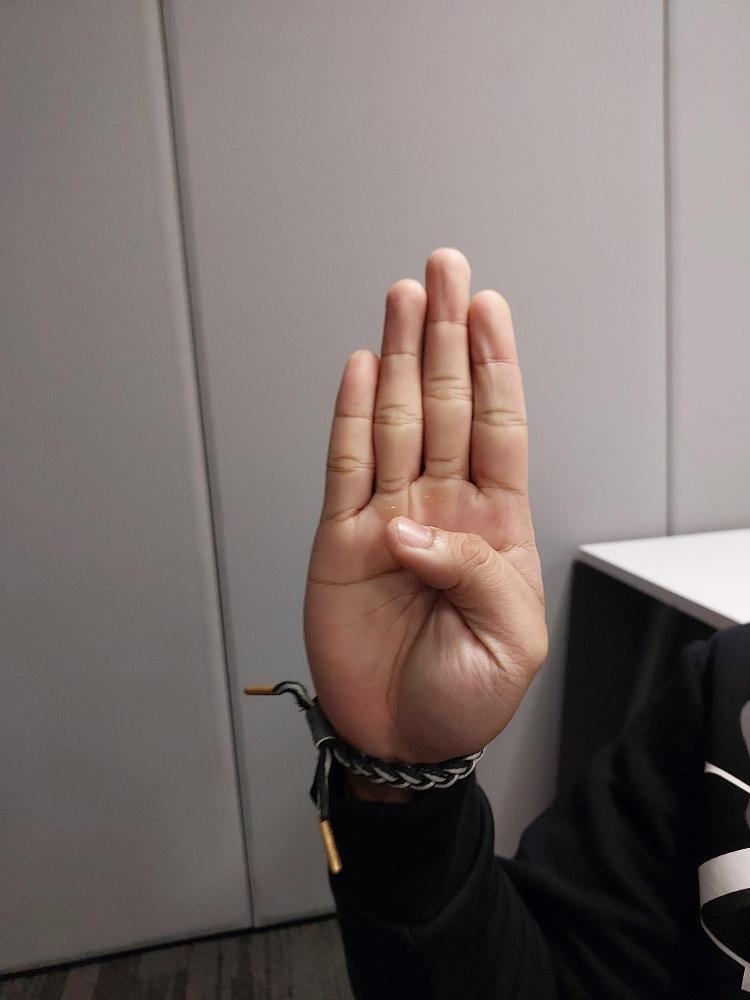b: (300, 243, 551, 762)
